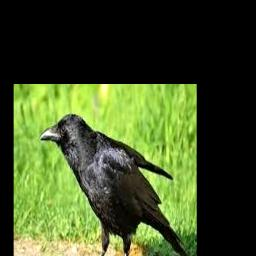Crow: (37, 113, 187, 256)
